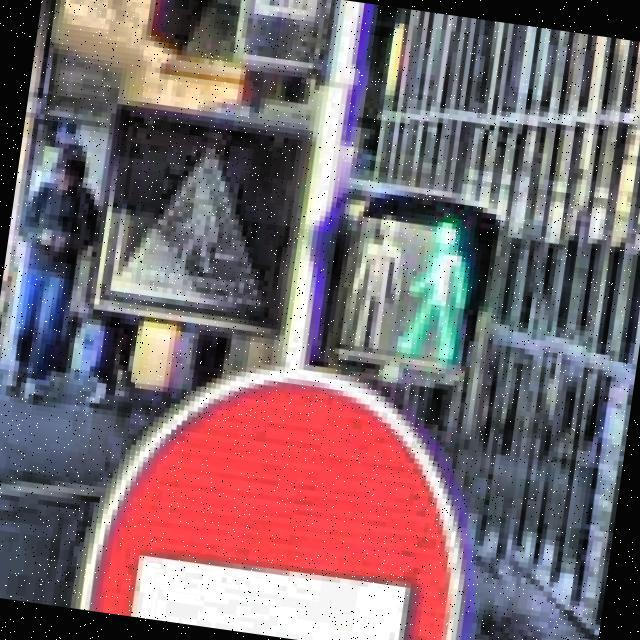green_light: (391, 206, 479, 360)
